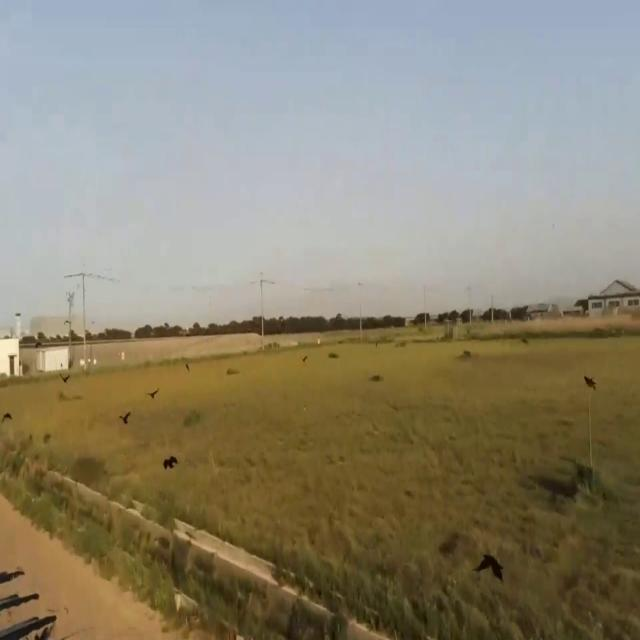bird: (162, 446, 179, 482), (118, 403, 132, 435), (583, 366, 596, 399), (148, 382, 160, 408), (1, 404, 12, 431), (61, 369, 70, 392)
